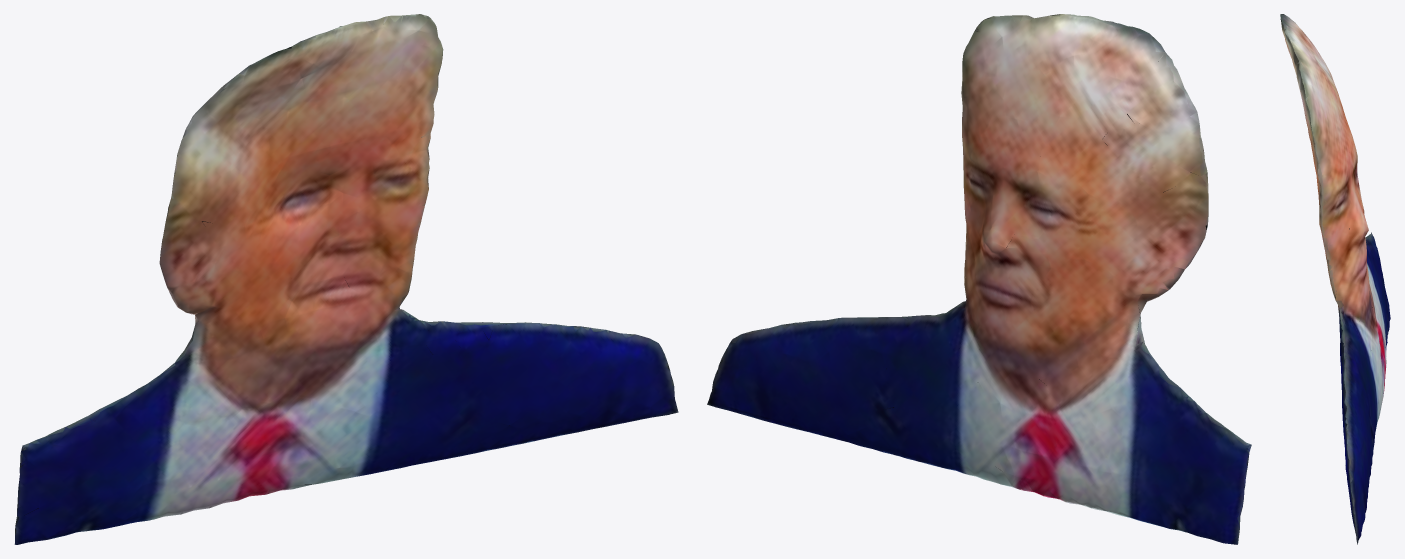
The picture shows the model from 3 angles, left to right: view 1: azimuth 30°, elevation 25°; view 2: azimuth 150°, elevation 25°; view 3: azimuth 270°, elevation 25°; orthographic projection. The views are drawn at different scales.
Visible parts, largest first — view 1: world; view 2: world; view 3: world.
Part boxes in pixels (bbox=[...]): world: bbox=[14, 14, 678, 544]; world: bbox=[707, 14, 1251, 544]; world: bbox=[1280, 14, 1390, 544].
Bounding box in the file's own units: 0.9947 × 0.7571 × 0.2036.
1 material, 1 textured.
